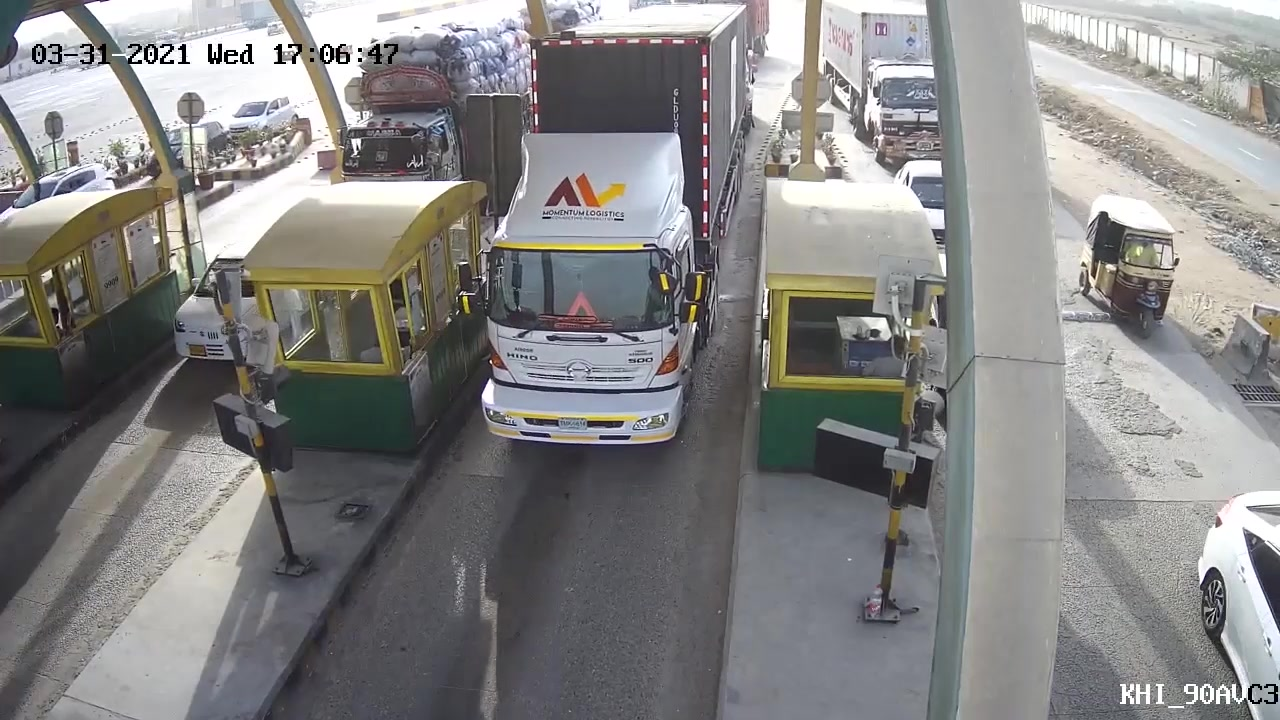F6: (470, 18, 738, 473)
